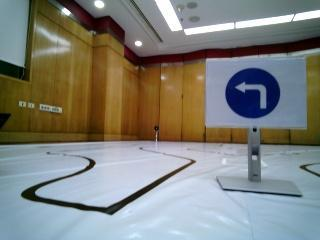left: (215, 66, 293, 119)
